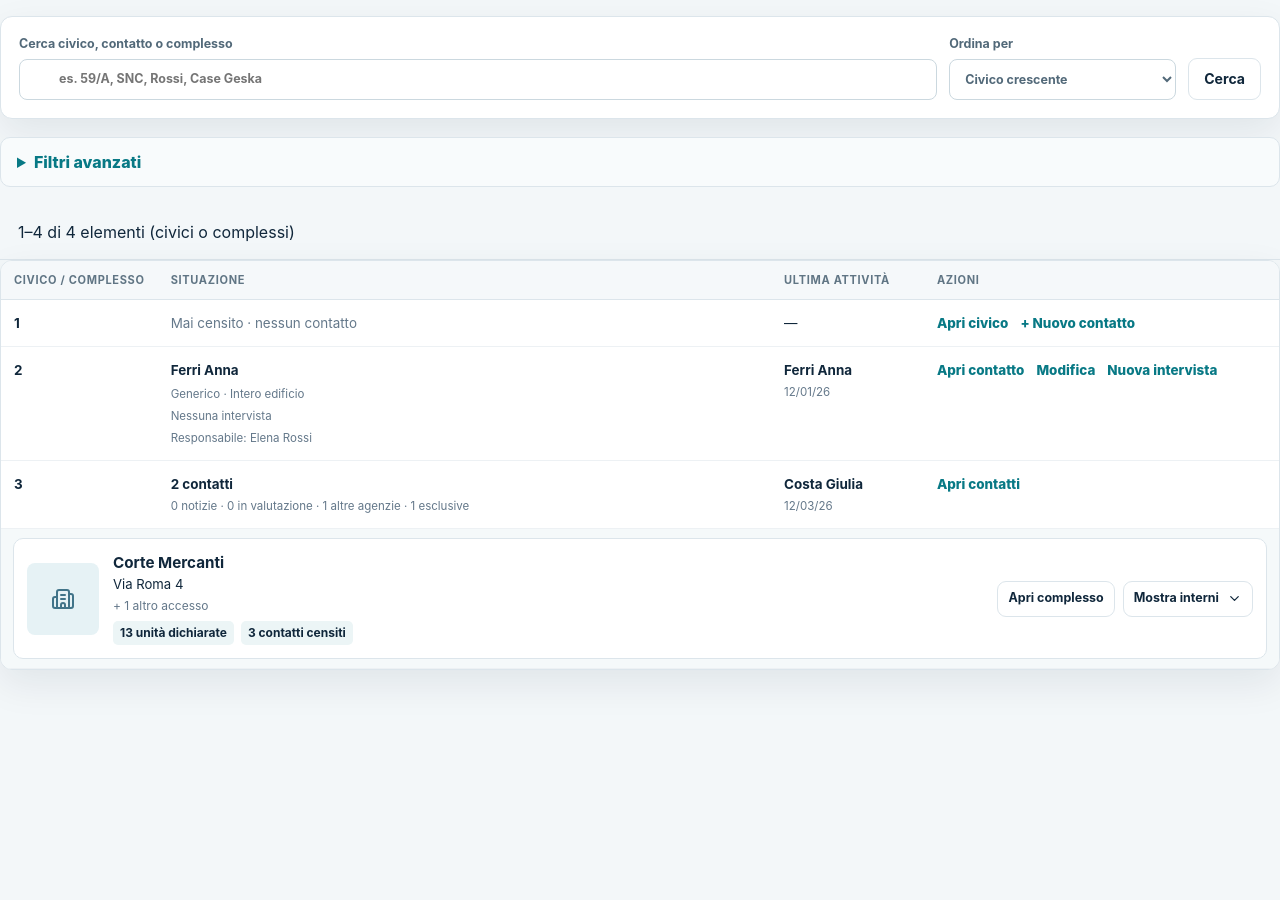
Scenario: street operational workflow › shows multiple Accesses and multiple CensusRecords without inventing units
expect the text "3 contatti censiti" is shown: met, box [241,621,353,645]
expect the text "+ 1 altro accesso" is shown: met, box [113,598,208,613]
Click the button "Mostra interni". click: (1188, 598)
box: [1123,580,1253,616]
(page scrolled)
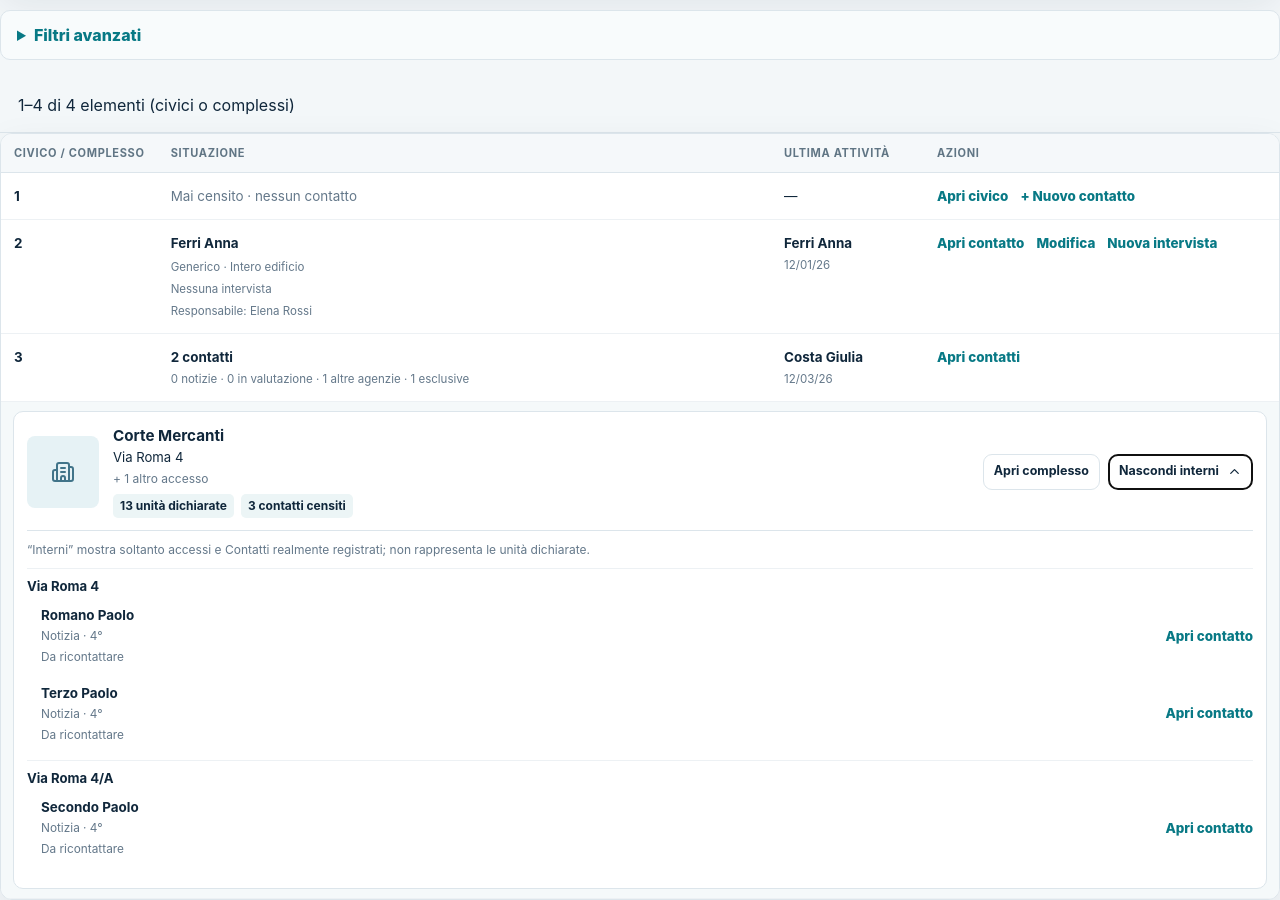
expect the number of links "Apri contatto" is 3: met, box [1166,626,1253,646]; [1166,703,1253,724]; [1166,818,1253,838]
expect the number of elements with class "street-complex-access" is 2: met, box [27,568,1253,760]; [27,760,1253,875]
expect the text "Via Roma 4/A" is shown: met, box [27,770,114,786]
